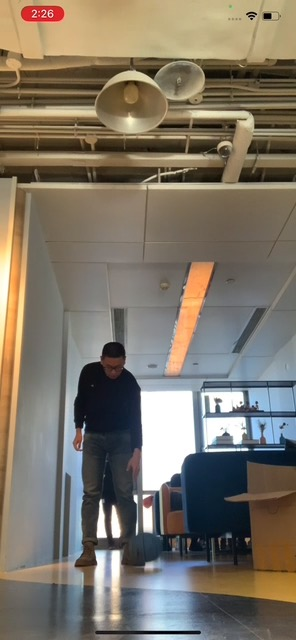ball: (129, 533, 161, 563)
